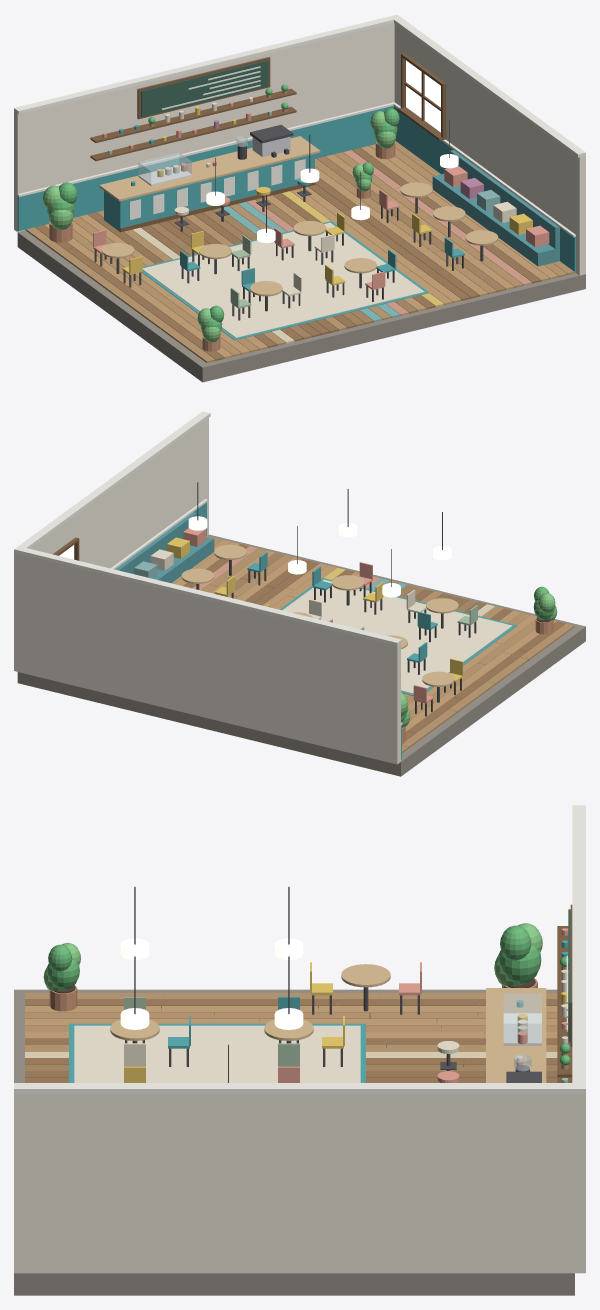
The model's file is spot-rite.glb.
3 renders of one model, top to bottom at view 1: azimuth 30°, elevation 25°; view 2: azimuth 150°, elevation 25°; view 3: azimuth 270°, elevation 25°, orthographic. The views are drawn at different scales.
Visible parts, largest first — view 1: Cream, Rug, Teal, Slab, WoodN3, Trim, WoodN1, WoodN2, TableWood, DarkWood, BanquetteSeat, Metal (+22 smaller); view 2: Cream, Slab, Rug, Trim, WoodN1, WoodN3, WoodN2, TableWood, BanquetteSeat, Metal, Lamp, Chair0 (+6 smaller); view 3: Cream, Slab, Rug, Trim, WoodN1, WoodN2, WoodN3, TableWood, Leaf1, Lamp, GlassCase, Metal (+11 smaller).
Boxes of the visible parts, box(x1,y1,x2,y2) form: Cream: box(14, 23, 585, 275); Rug: box(142, 222, 424, 337); Teal: box(17, 106, 575, 340); Slab: box(17, 230, 585, 382); WoodN3: box(44, 144, 558, 358); Trim: box(14, 14, 585, 237); WoodN1: box(25, 141, 575, 362); WoodN2: box(35, 148, 540, 360); TableWood: box(99, 136, 498, 296); DarkWood: box(90, 53, 446, 232); BanquetteSeat: box(432, 150, 559, 266); Metal: box(94, 120, 483, 320); Cream: box(14, 418, 400, 764); Slab: box(17, 534, 585, 776); Rug: box(282, 579, 512, 693); Trim: box(14, 411, 402, 725); WoodN1: box(201, 536, 574, 752); WoodN3: box(172, 540, 556, 731); WoodN2: box(183, 544, 565, 740); TableWood: box(181, 544, 458, 686); BanquetteSeat: box(115, 512, 214, 583); Metal: box(196, 482, 476, 716); Lamp: box(188, 516, 451, 597); Chair0: box(247, 552, 437, 662); Cream: box(14, 1094, 585, 1273); Slab: box(14, 989, 574, 1295); Rug: box(74, 1025, 360, 1082); Trim: box(14, 805, 585, 1093); WoodN1: box(25, 993, 557, 1051); WoodN2: box(25, 999, 557, 1082); WoodN3: box(25, 1006, 557, 1040); TableWood: box(110, 964, 546, 1082); Leaf1: box(47, 925, 570, 1082); Lamp: box(120, 938, 303, 1029); GlassCase: box(503, 993, 541, 1071); Metal: box(125, 887, 541, 1082).
Bounding box in the file's own units: 12.2 × 4.15 × 10.4.
